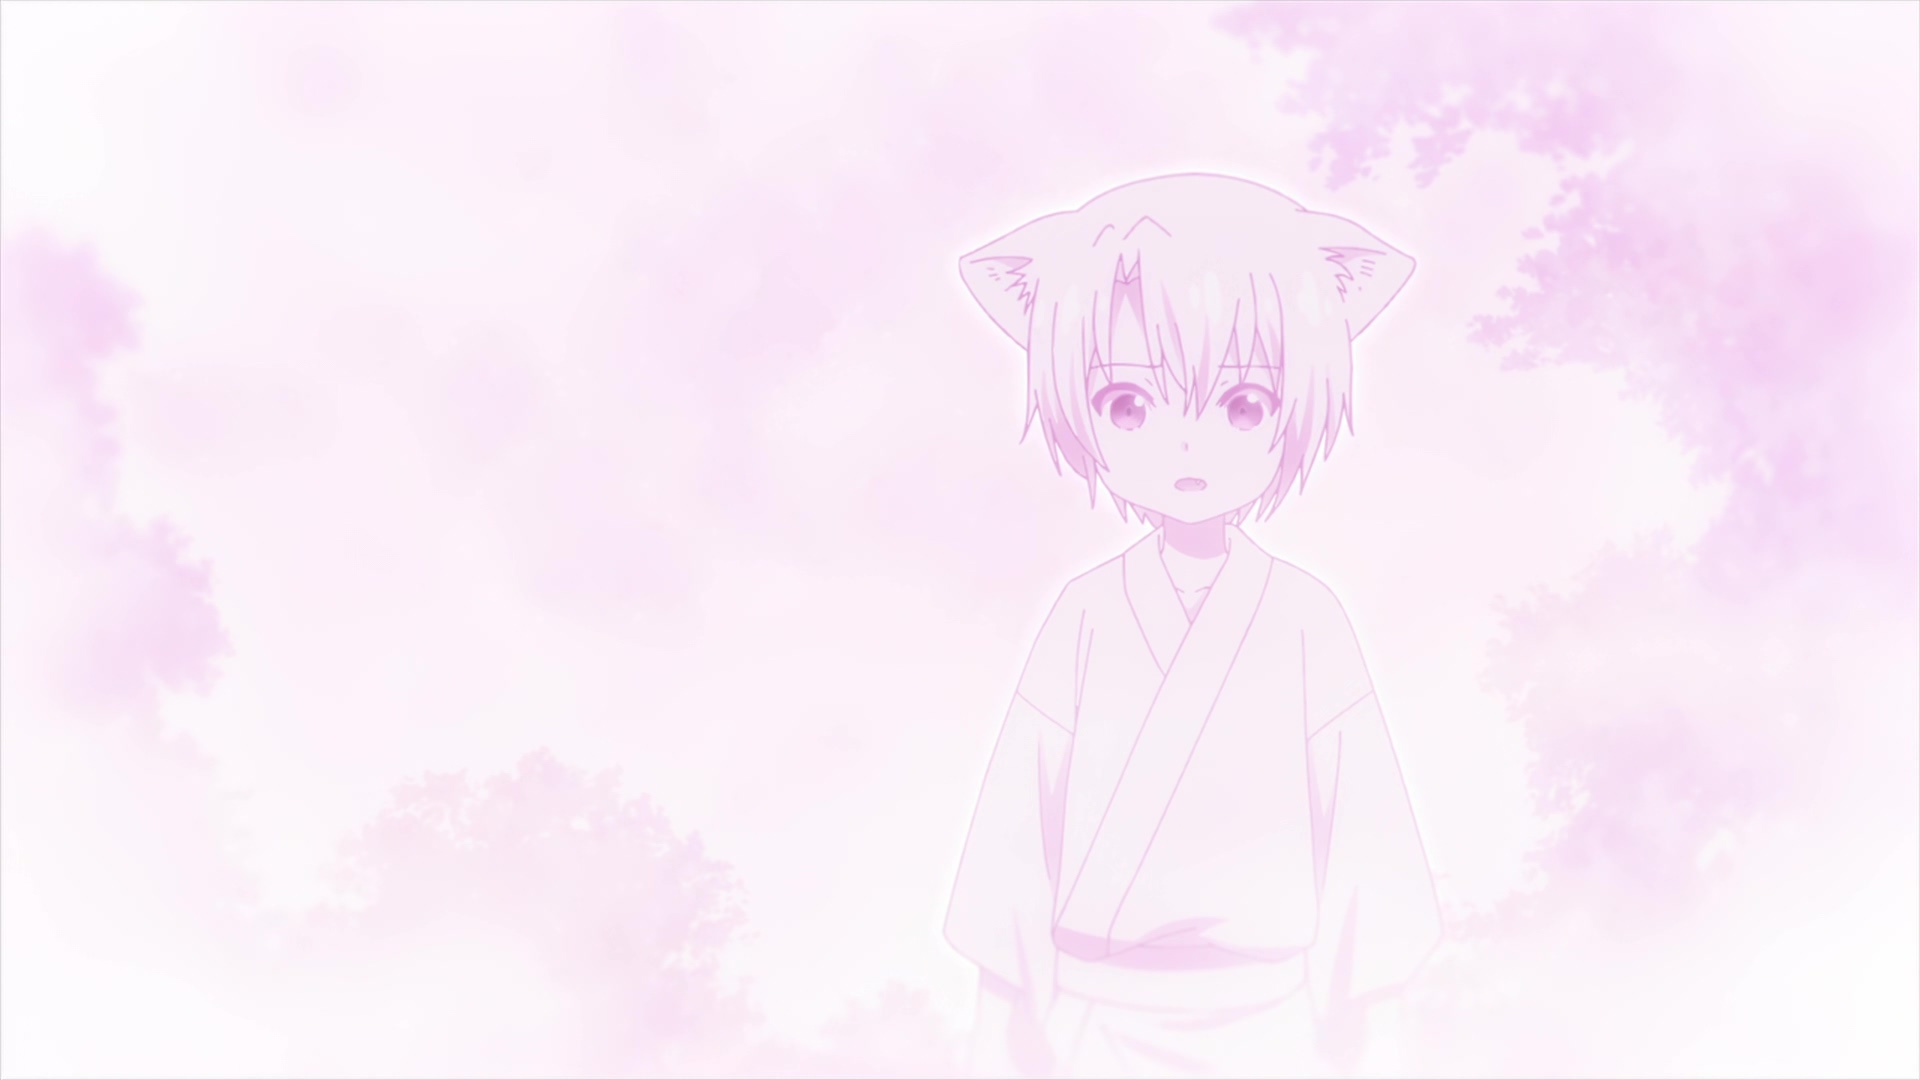枣: (942, 175, 1443, 1080)
